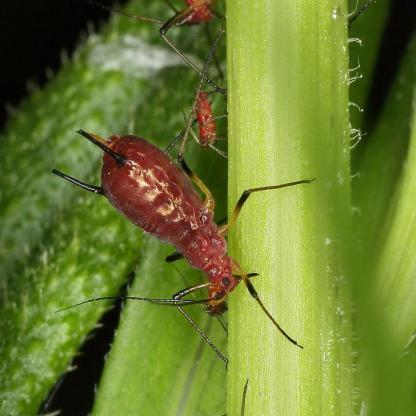aphid: (58, 124, 283, 350), (105, 3, 234, 61), (167, 73, 250, 152)
